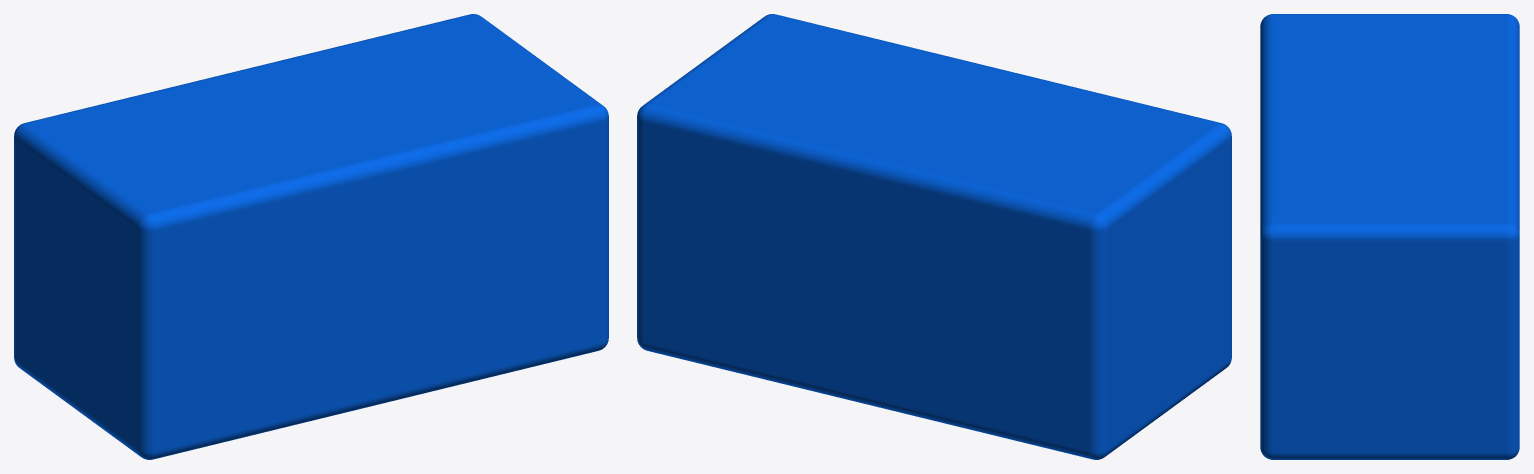
The model's file is base1x2BlockMRound.glb.
The picture shows the model from 3 angles, left to right: view 1: azimuth 30°, elevation 25°; view 2: azimuth 150°, elevation 25°; view 3: azimuth 270°, elevation 25°; orthographic projection. The views are drawn at different scales.
Parts seen in each view (by area): view 1: Cube; view 2: Cube; view 3: Cube.
Part boxes in pixels (box(x1,y1,x2,y2)): Cube: box(14, 14, 608, 459); Cube: box(637, 14, 1231, 459); Cube: box(1260, 14, 1519, 459).
Bounding box in the file's own units: 4 × 2 × 2.
